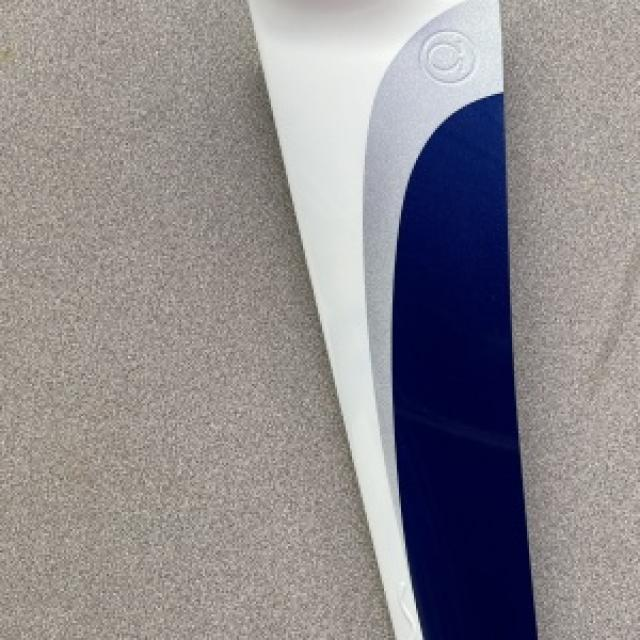healthy: (247, 0, 542, 638)
